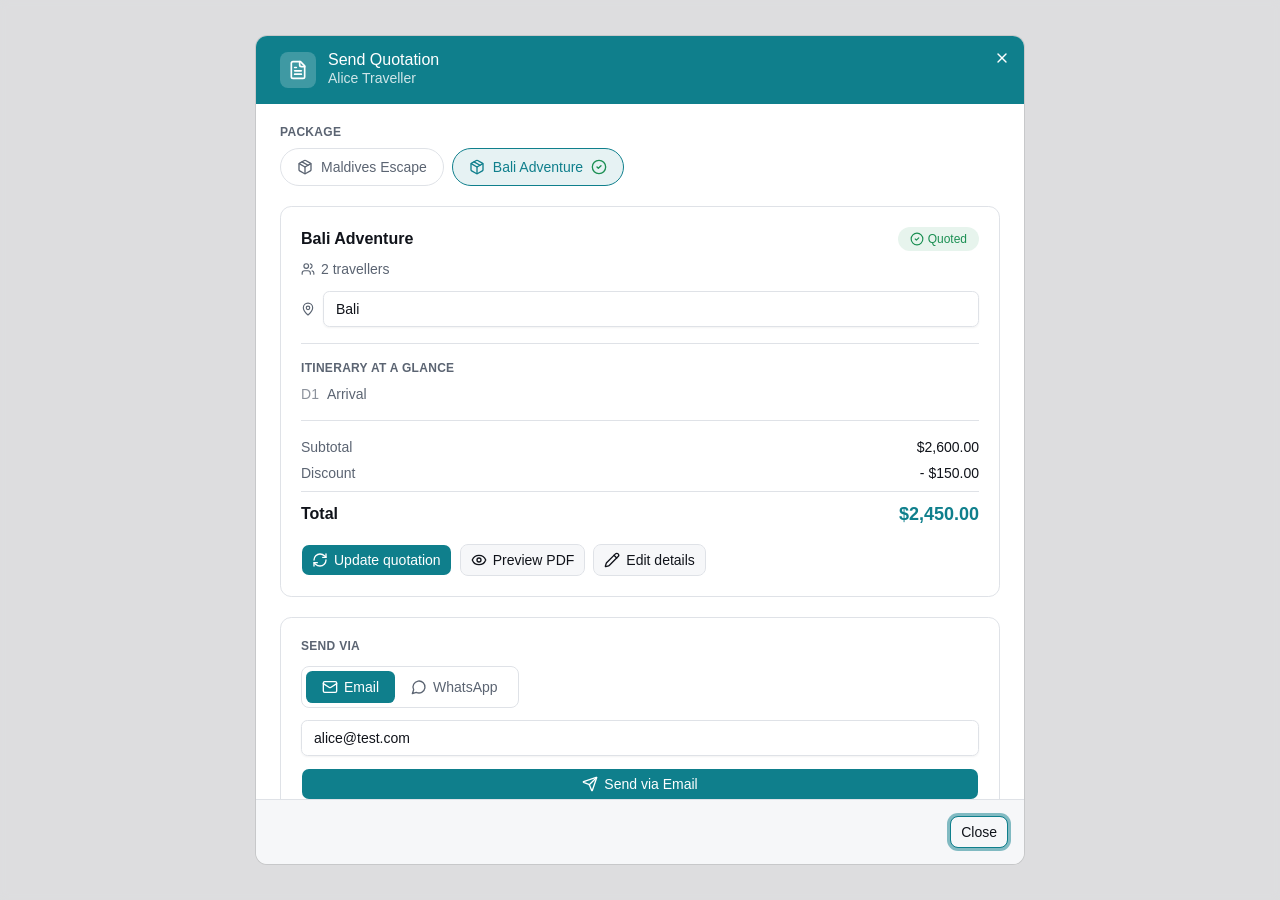
Scenario: QuotationModal › swaps the summary when a different package is chosen
Expected: the heading "Bali Adventure" is shown, [301,227,413,251]
Click the button "Maldives Escape". click: point(362, 167)
box: [280,148,444,186]
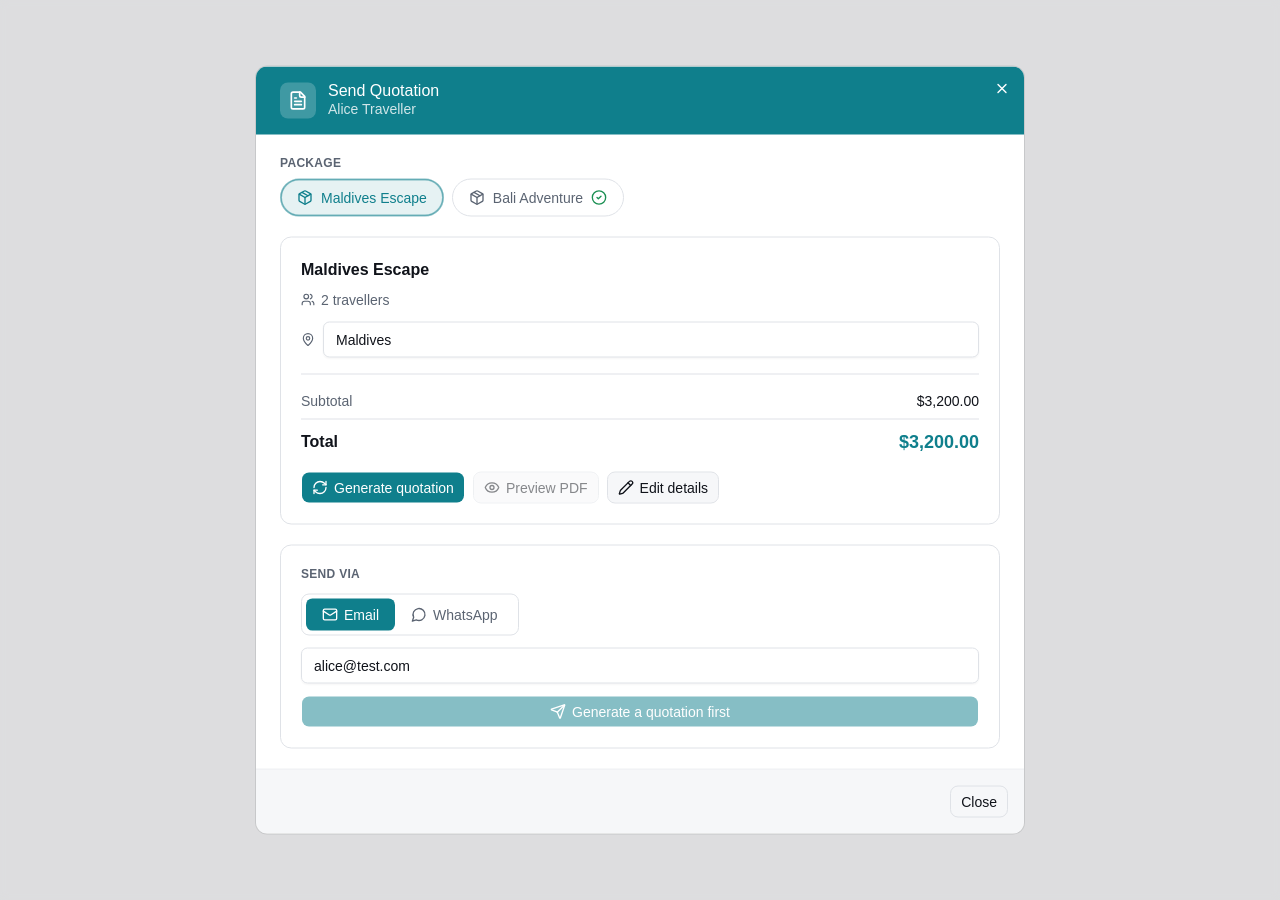
Expected: the heading "Maldives Escape" is shown, [301,258,429,282]
Expected: the text "$3,200.00" in the row of "Subtotal" is shown, [917,392,979,408]
